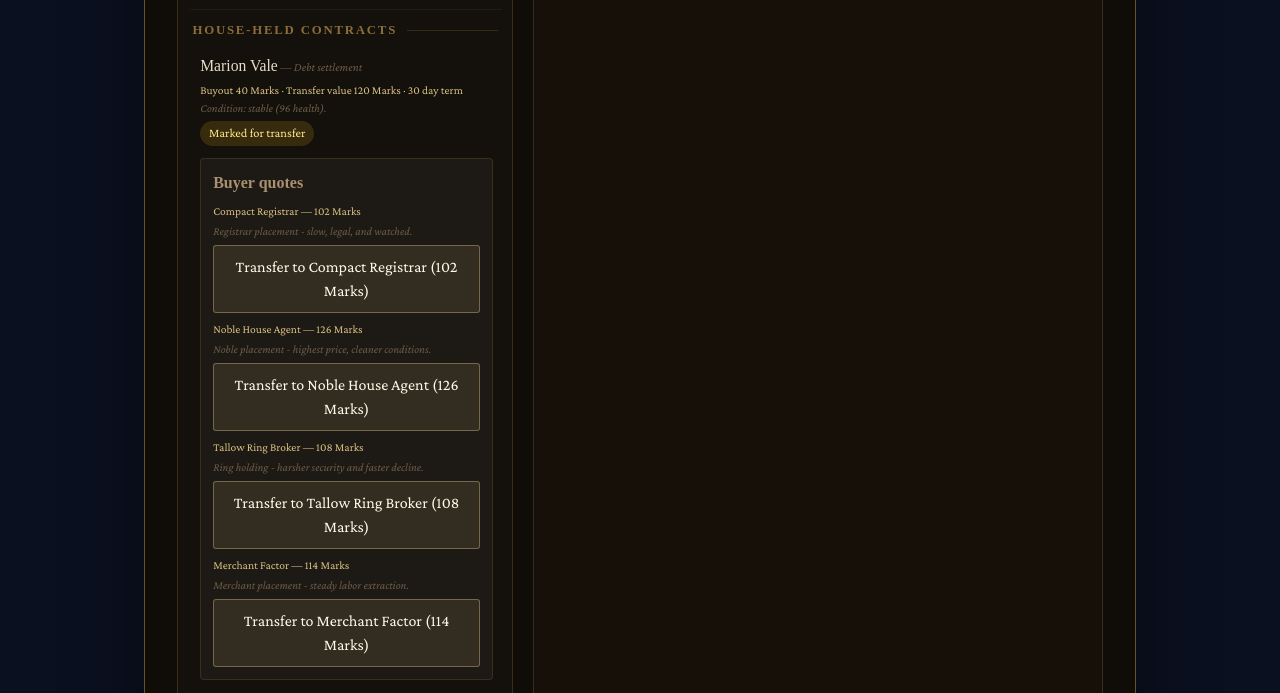
Test: BrokerageScreen › shows buyer quotes and allows direct transfer once a contract is marked for sale
(page scrolled)
Expected: the heading "Buyer quotes" is shown, 213,174 -> 303,191
What coordinates should you click on to do the following:
click the button "Transfer to Noble House Agent (126 Marks)"
I would click on:
 (346, 385)
Its box is 213,363 -> 480,431.
(page scrolled)
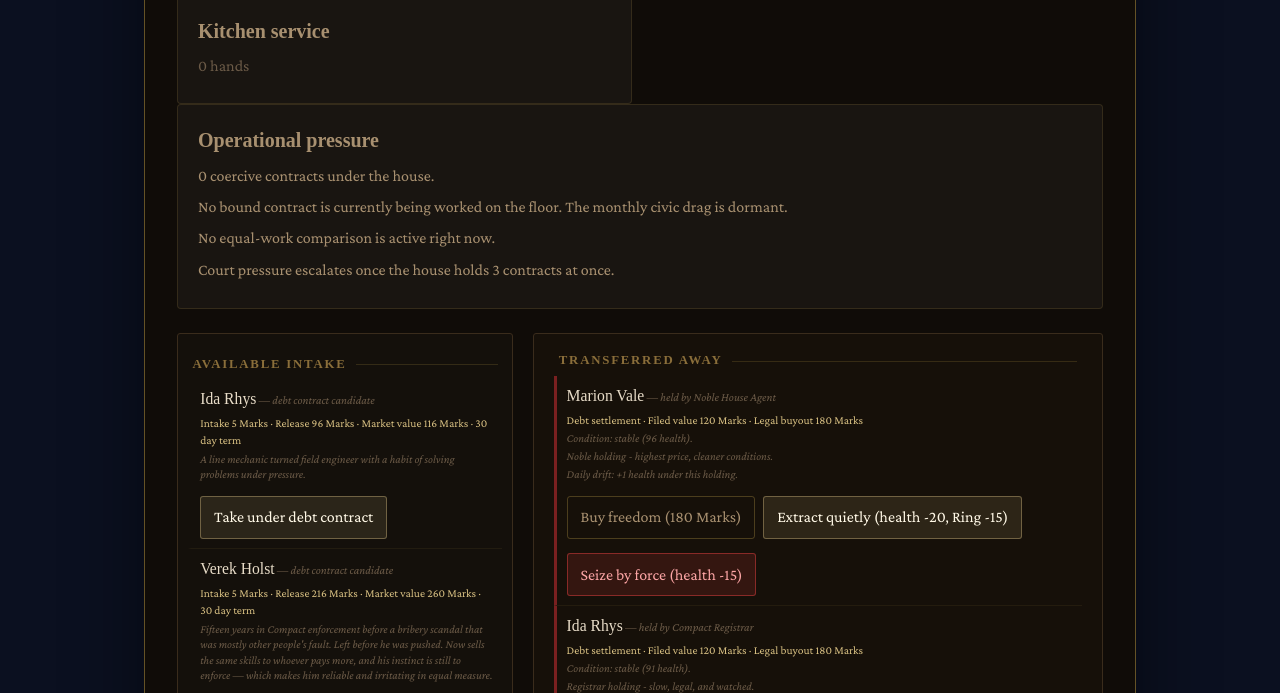
Expected: the text "— held by Noble House Agent" is shown, 644,390 -> 776,404
